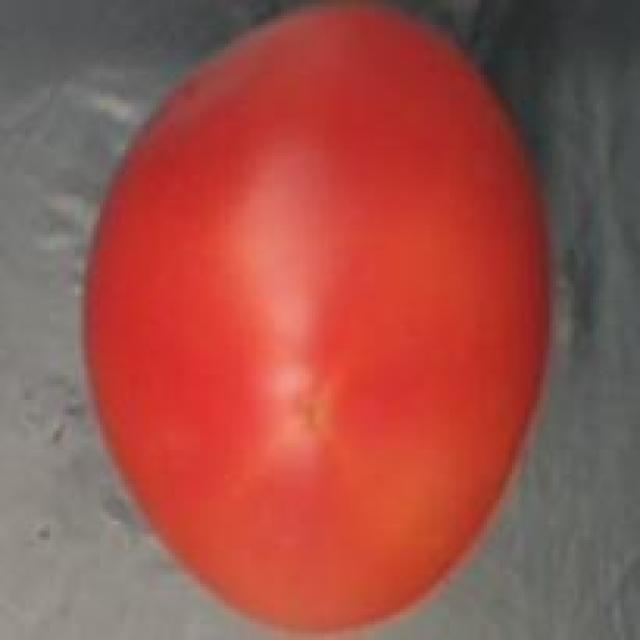ripe tomato: (75, 6, 568, 640)
